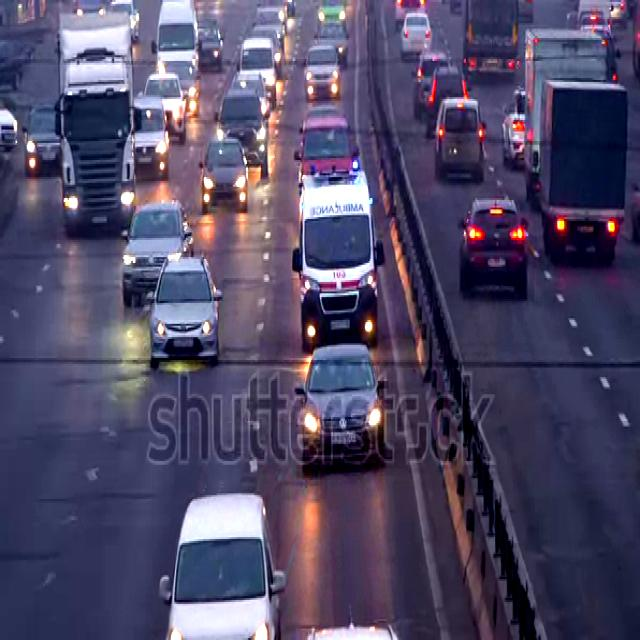ambulance: (290, 164, 388, 350)
